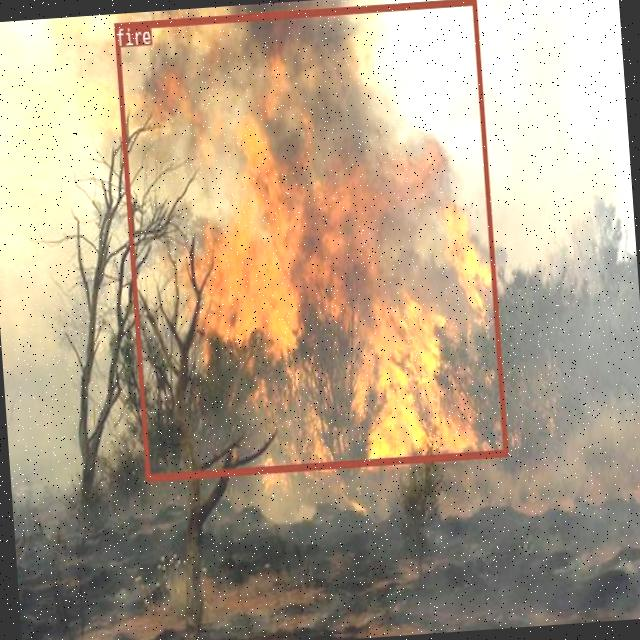fire: (113, 0, 506, 479)
